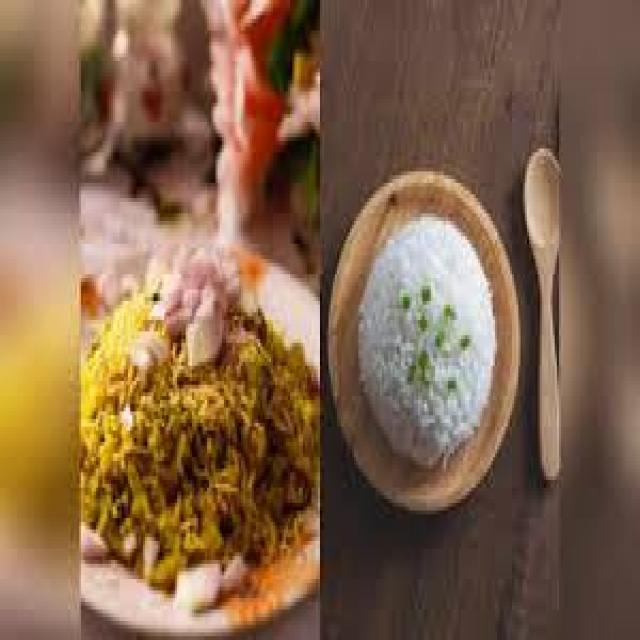POHA: (86, 242, 319, 587)
